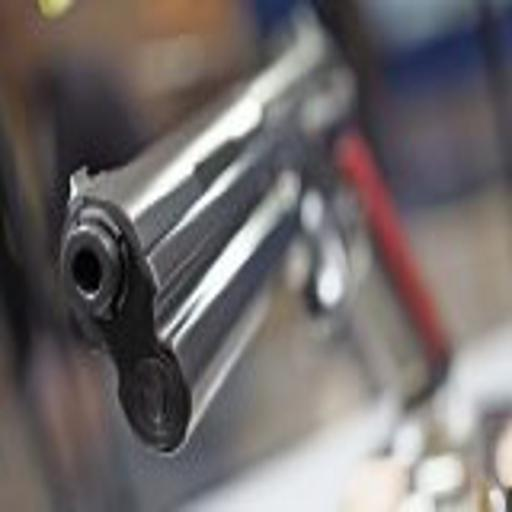Handgun: (56, 7, 456, 459)
